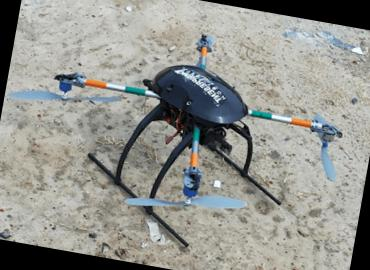drone: (0, 2, 353, 243)
